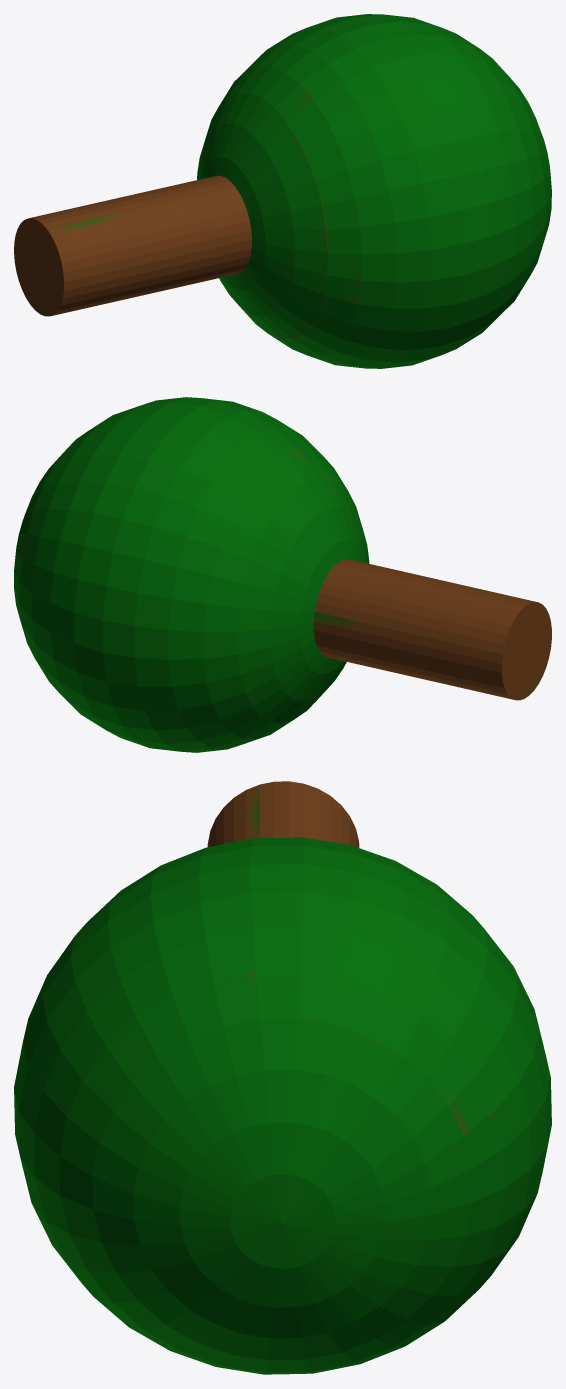
Rendered from tree2formidterm.obj.
The picture shows the model from 3 angles, top to bottom: view 1: azimuth 30°, elevation 25°; view 2: azimuth 150°, elevation 25°; view 3: azimuth 270°, elevation 25°; orthographic projection. The views are drawn at different scales.
Parts seen in each view (by area): view 1: Cylinder; view 2: Cylinder; view 3: Cylinder.
Part boxes in pixels (x1,y1,x2,y2): Cylinder: (14,14,551,368); Cylinder: (14,397,551,752); Cylinder: (14,781,551,1374).
Size of the model in its own units: 3.05 by 1.91 by 1.91.
